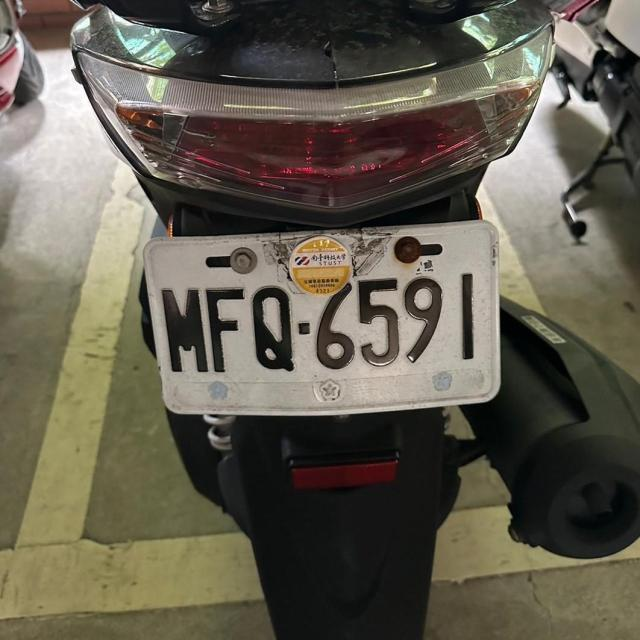W: (136, 205, 512, 428)
